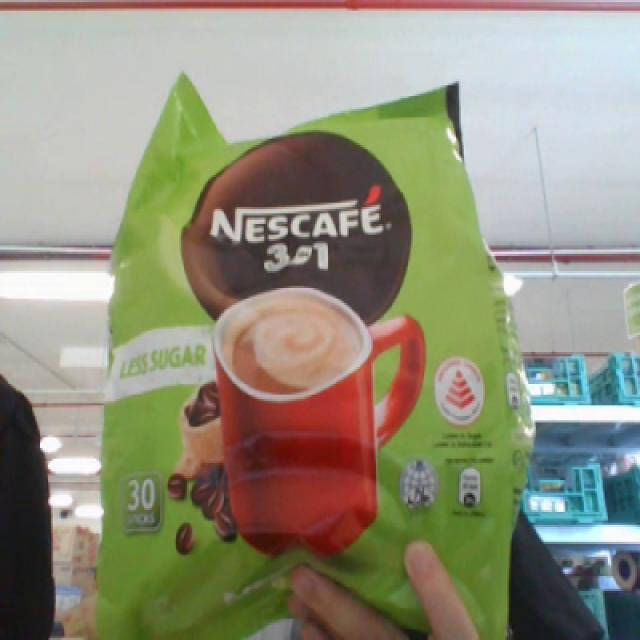object_name: (123, 76, 490, 636)
